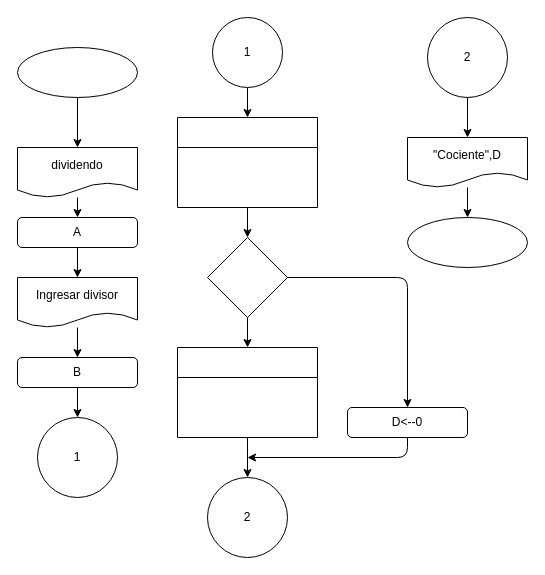
Image size: 545x575. Some labels were removed from this diagram. The centre of each missing label's shape, as x and y in pixels:
"D<--divide(A,B)" goes at point 247,392.
"Fin" goes at point 467,242.
"Inicio" goes at point 77,72.
"ok" goes at point 247,277.
"ok<--valida(A,B)" goes at point 247,162.
